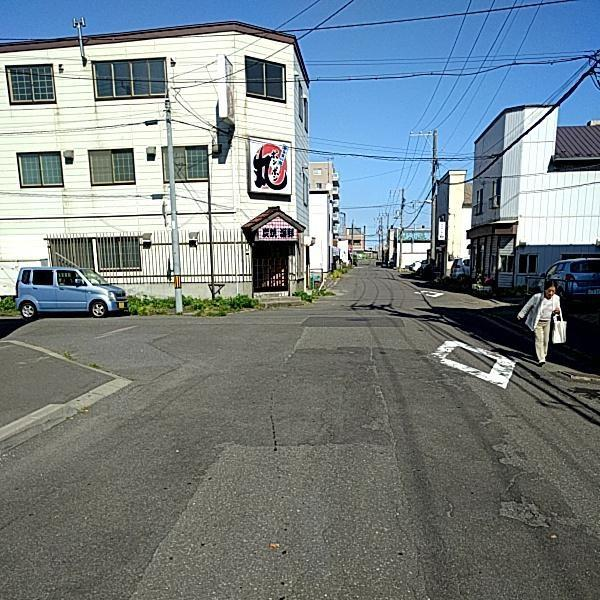pothole: (497, 495, 554, 525)
